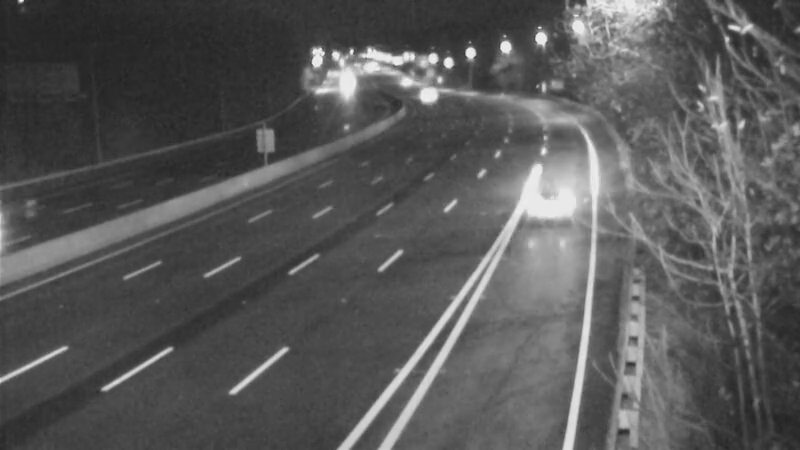vehicle: (513, 154, 593, 234), (378, 54, 428, 104), (399, 71, 449, 121)
